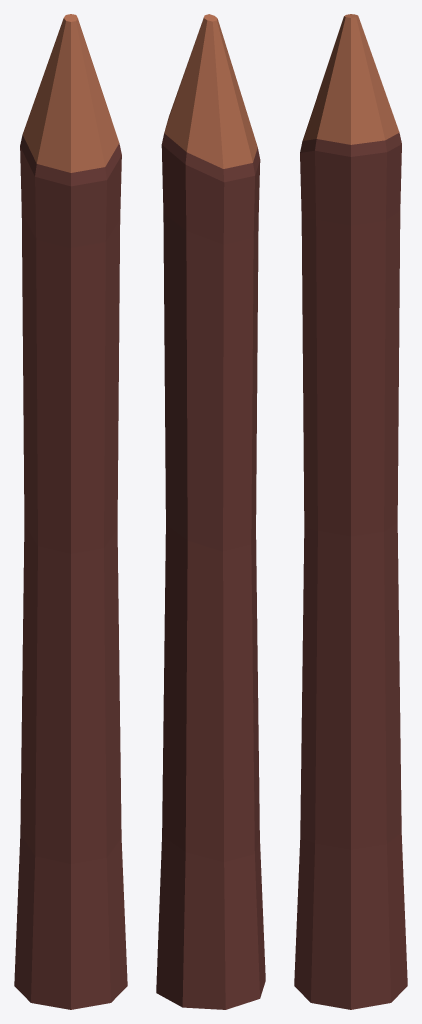
Rendered from Wooden Pole Sharp 10.fbx.
3 views of the same model, side by side, from view 1: azimuth 90°, elevation 25°; view 2: azimuth 150°, elevation 25°; view 3: azimuth 270°, elevation 25° (orthographic).
Parts seen in each view (by area): view 1: Wooden Pole Sharp 10; view 2: Wooden Pole Sharp 10; view 3: Wooden Pole Sharp 10.
Part boxes in pixels (left/top/right/bottom): Wooden Pole Sharp 10: left=14, top=14, right=127, bottom=1009; Wooden Pole Sharp 10: left=156, top=14, right=265, bottom=1009; Wooden Pole Sharp 10: left=294, top=14, right=407, bottom=1009.
Size of the model in its own units: 30.34 by 286 by 30.34.
